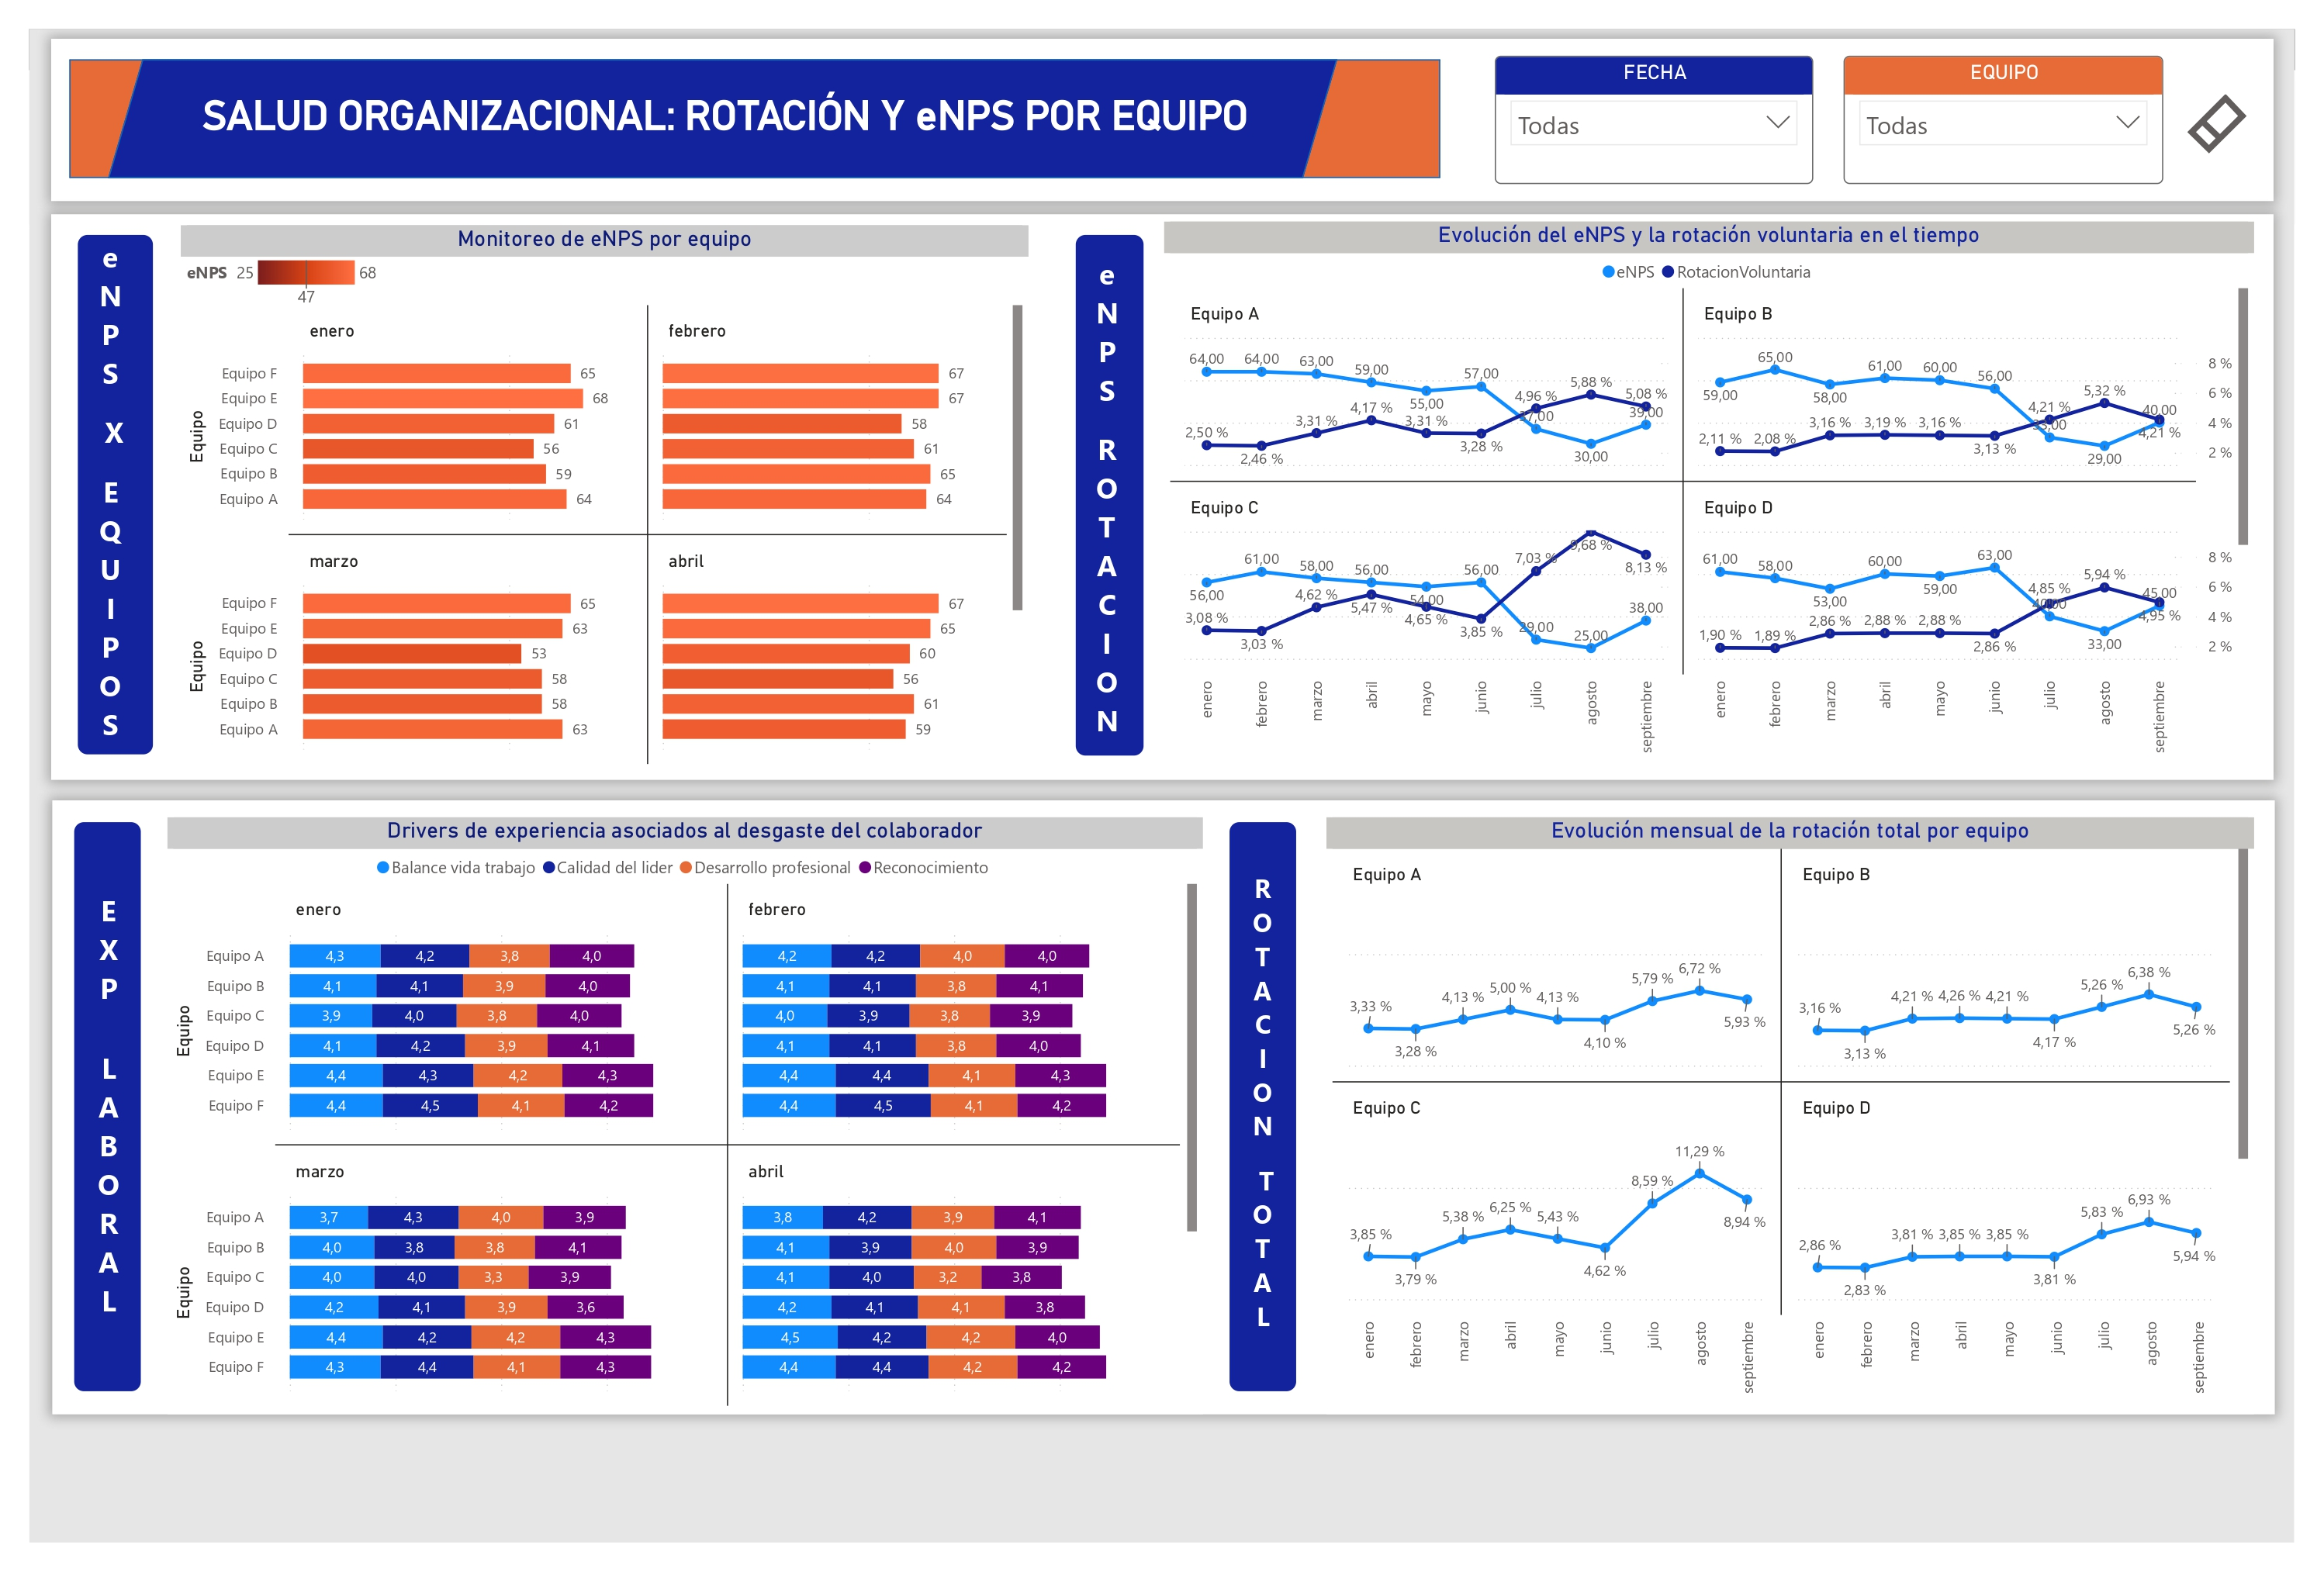

Layout of this report page (visuals, bound fields, positions):
{"tool":"powerbi","page":{"name":"Página 1","canvas":[1870,1250],"ordinal":0},"visuals":[{"type":"shape","box":[18.3,8.3,1835,133.3],"z":0},{"type":"shape","box":[18.6,637.1,1835.7,507.1],"z":1000},{"type":"shape","box":[18.3,153.3,1835,466.7],"z":2000},{"type":"shape","box":[33.3,25,1131.7,98.3],"z":3000},{"type":"shape","box":[65,25,1015,98.3],"z":4000},{"type":"textbox","box":[51.7,46.7,1045,63.3],"z":5000},{"type":"lineChart","title":"Evolución mensual de la rotación total por equipo","fields":{"Rows":["T_Rotacion_Mensual.Equipo"],"Category":["Calendario.DateKey.Variación.Jerarquía de fechas.Mes"],"Y":["Medidas.Rotacion_Total"]},"box":[1071.4,651.4,765.7,492.9],"z":6000},{"type":"slicer","title":"FECHA","fields":{"Values":["Calendario.DateKey.Variación.Jerarquía de fechas.Año","Calendario.DateKey.Variación.Jerarquía de fechas.Mes"]},"box":[1210,21.7,263.3,106.7],"z":7000},{"type":"slicer","title":"EQUIPO","fields":{"Values":["Dim_Equipo.Equipo"]},"box":[1498.3,21.7,263.3,106.7],"z":8000},{"type":"shape","box":[35.7,165.7,70,437.1],"z":9000},{"type":"actionButton","box":[1778.3,46.7,56.7,63.3],"z":10000},{"type":"shape","box":[987.1,651.4,62.9,477.1],"z":11000},{"type":"shape","box":[32.5,651.2,63.8,477.5],"z":12000},{"type":"shape","box":[860,166,64,438],"z":13000},{"type":"textbox","box":[868,180,44,424],"z":14000},{"type":"textbox","box":[34.3,705.7,62.9,404.3],"z":15000},{"type":"textbox","box":[36.2,166.2,61.2,430],"z":16000},{"type":"textbox","box":[656.7,886.7,76.7,170],"z":17000},{"type":"lineChart","title":"Evolución del eNPS y la rotación voluntaria en el tiempo","fields":{"Rows":["Dim_Equipo.Equipo"],"Category":["Calendario.DateKey.Variación.Jerarquía de fechas.Mes"],"Y2":["Medidas.RotacionVoluntaria"],"Y":["Medidas.eNPS"]},"box":[937.1,158.6,900,457.1],"z":18000},{"type":"clusteredBarChart","title":"Monitoreo de eNPS por equipo","fields":{"Category":["Dim_Equipo.Equipo"],"Y":["Medidas.eNPS"],"Rows":["Calendario.DateKey.Variación.Jerarquía de fechas.Mes"]},"box":[125,161.7,700,450],"z":19000},{"type":"barChart","title":"Drivers de experiencia asociados al desgaste del colaborador","fields":{"Y":["Avg(T_Experiencia_Drivers.Balance_vida_trabajo_1a5)","Avg(T_Experiencia_Drivers.Calidad_del_lider_1a5)","Avg(T_Experiencia_Drivers.Desarrollo_profesional_1a5)","Avg(T_Experiencia_Drivers.Reconocimiento_1a5)"],"Rows":["Calendario.DateKey.Variación.Jerarquía de fechas.Mes"],"Category":["Dim_Equipo.Equipo"]},"box":[113.8,651.2,855,492.5],"z":20000},{"type":"textbox","box":[987.1,690,62.9,430],"z":21000}]}

Visuals, with their boxes on the page's 1870x1250 design canvas (x1, y1, x2, y2). These are canvas units, not pixel positions in the 2324x1572 screenshot, which may show the page scaled, cropped or inside an application window:
shape: pyautogui.locateOnScreen(18, 8, 1853, 142)
shape: pyautogui.locateOnScreen(19, 637, 1854, 1144)
shape: pyautogui.locateOnScreen(18, 153, 1853, 620)
shape: pyautogui.locateOnScreen(33, 25, 1165, 123)
shape: pyautogui.locateOnScreen(65, 25, 1080, 123)
textbox: pyautogui.locateOnScreen(52, 47, 1097, 110)
"Evolución mensual de la rotación total por equipo" lineChart: pyautogui.locateOnScreen(1071, 651, 1837, 1144)
"FECHA" slicer: pyautogui.locateOnScreen(1210, 22, 1473, 128)
"EQUIPO" slicer: pyautogui.locateOnScreen(1498, 22, 1762, 128)
shape: pyautogui.locateOnScreen(36, 166, 106, 603)
actionButton: pyautogui.locateOnScreen(1778, 47, 1835, 110)
shape: pyautogui.locateOnScreen(987, 651, 1050, 1128)
shape: pyautogui.locateOnScreen(32, 651, 96, 1129)
shape: pyautogui.locateOnScreen(860, 166, 924, 604)
textbox: pyautogui.locateOnScreen(868, 180, 912, 604)
textbox: pyautogui.locateOnScreen(34, 706, 97, 1110)
textbox: pyautogui.locateOnScreen(36, 166, 97, 596)
textbox: pyautogui.locateOnScreen(657, 887, 733, 1057)
"Evolución del eNPS y la rotación voluntaria en el tiempo" lineChart: pyautogui.locateOnScreen(937, 159, 1837, 616)
"Monitoreo de eNPS por equipo" clusteredBarChart: pyautogui.locateOnScreen(125, 162, 825, 612)
"Drivers de experiencia asociados al desgaste del colaborador" barChart: pyautogui.locateOnScreen(114, 651, 969, 1144)
textbox: pyautogui.locateOnScreen(987, 690, 1050, 1120)
